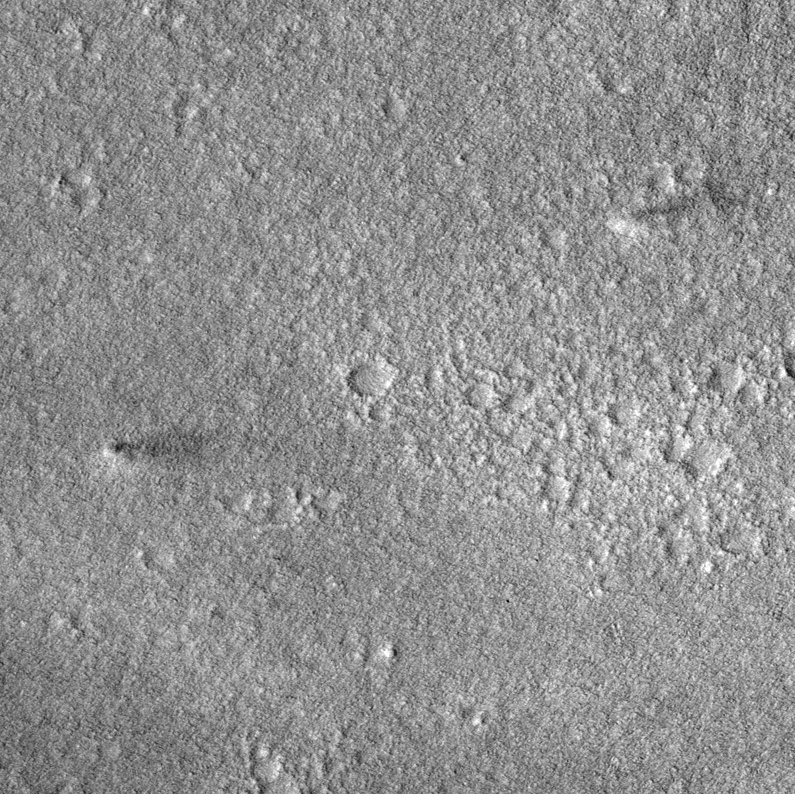dust_devil: (603, 173, 745, 241), (101, 428, 205, 475)
